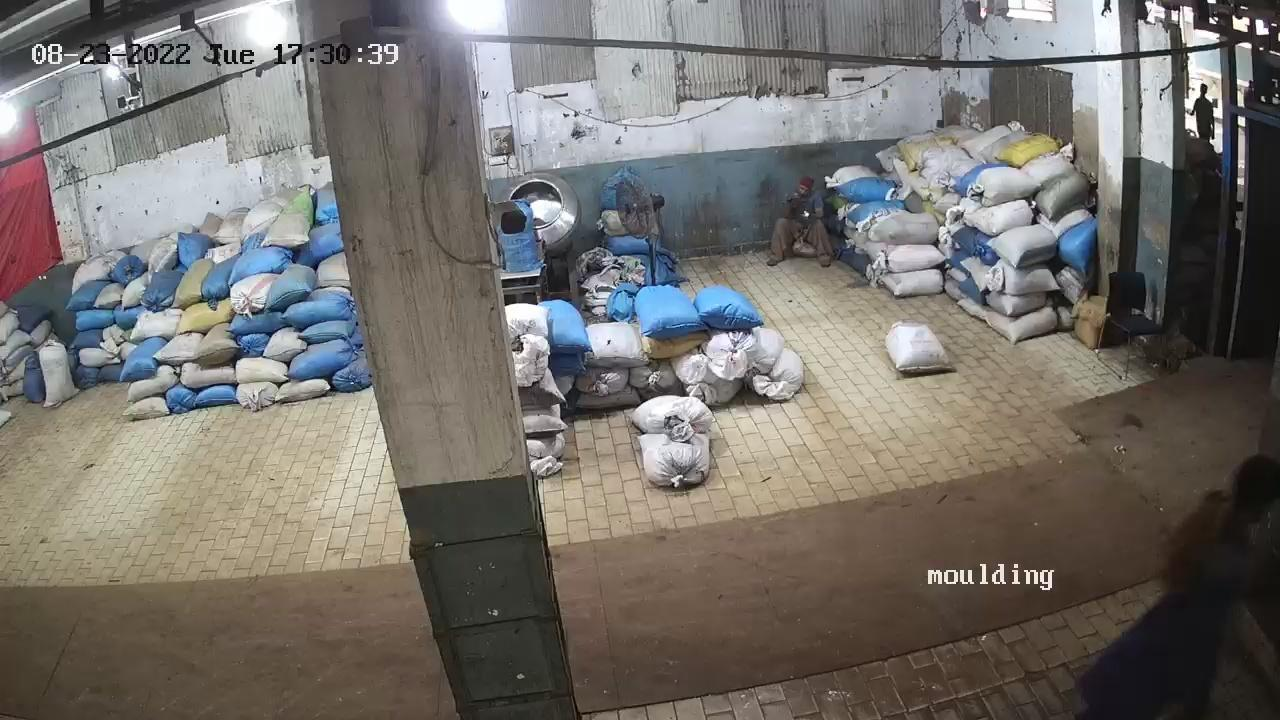person: (767, 178, 834, 268)
